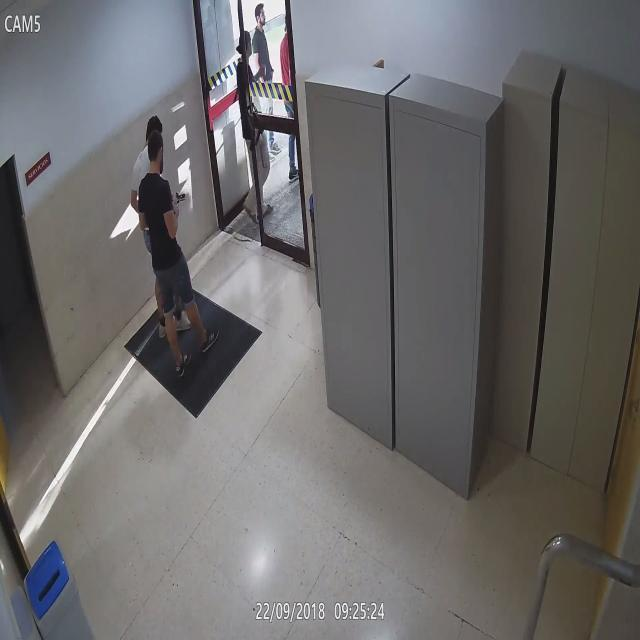pistol: (255, 130, 268, 167), (171, 189, 188, 209)
